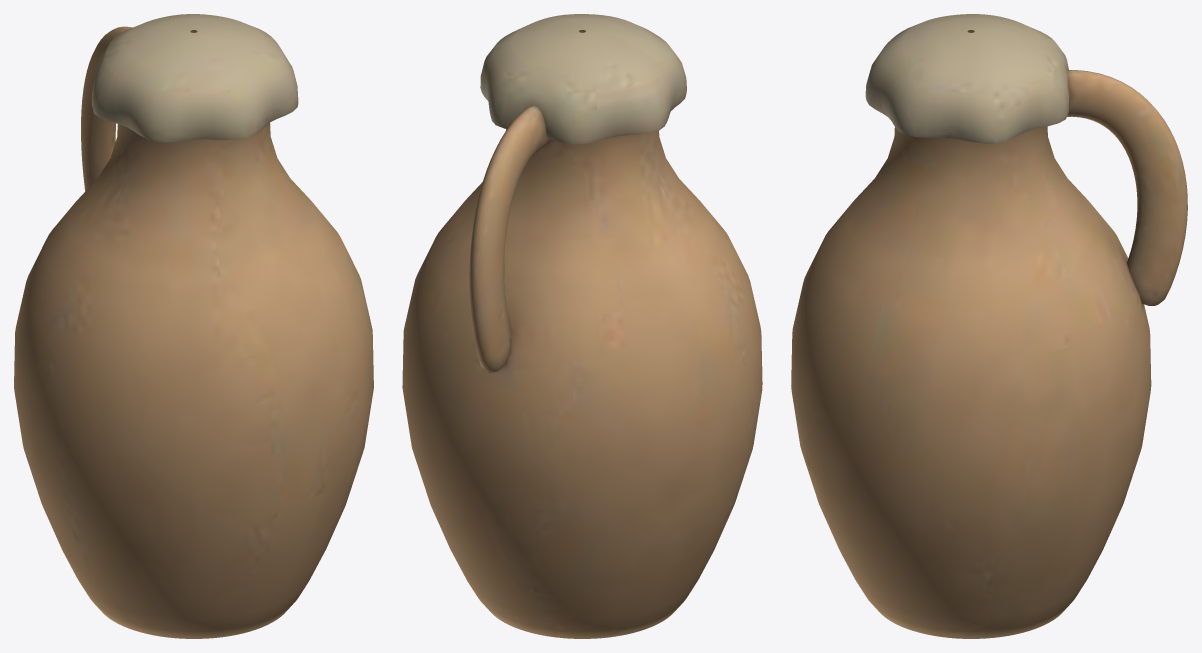
File: oil_jug.glb
The picture shows the model from 3 angles, left to right: view 1: azimuth 30°, elevation 25°; view 2: azimuth 150°, elevation 25°; view 3: azimuth 270°, elevation 25°; orthographic projection.
Visible parts, largest first — view 1: oil_jug; view 2: oil_jug; view 3: oil_jug.
Part boxes in pixels (x1,y1,x2,y2): oil_jug: [14, 14, 373, 638]; oil_jug: [402, 14, 762, 638]; oil_jug: [791, 14, 1187, 638].
Bounding box in the file's own units: 0.1199 × 0.2118 × 0.1321.
Materials: 1 (1 with a texture image).
